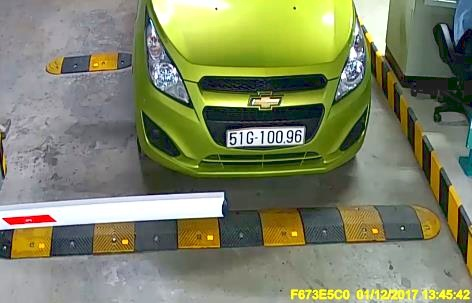plate: (225, 121, 305, 149)
